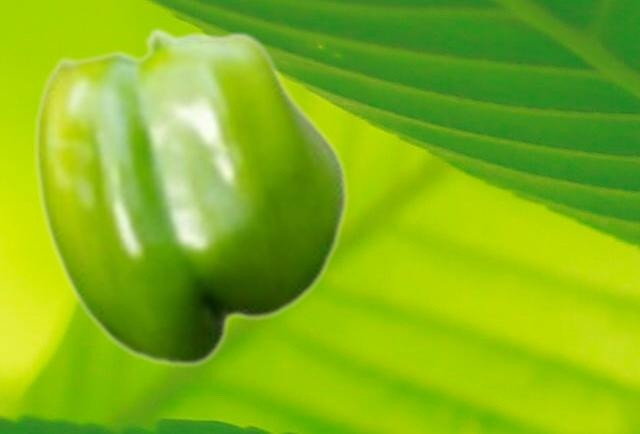bell_pepper: (34, 27, 348, 367)
